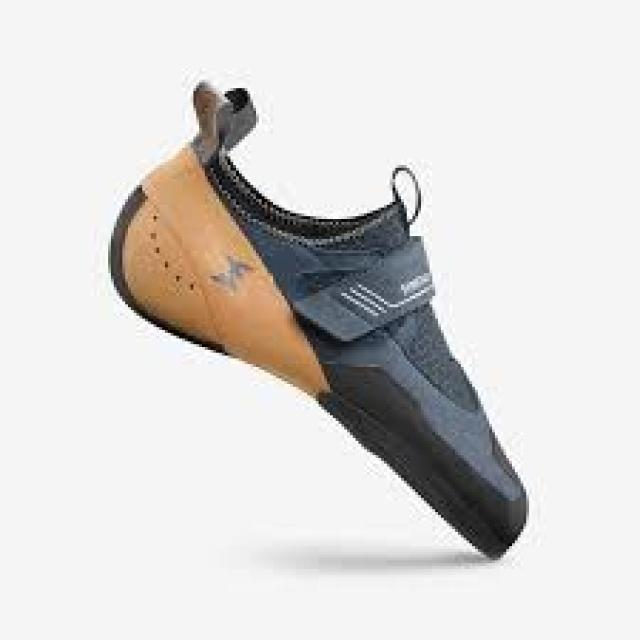climbing-shoes: (106, 79, 530, 562)
